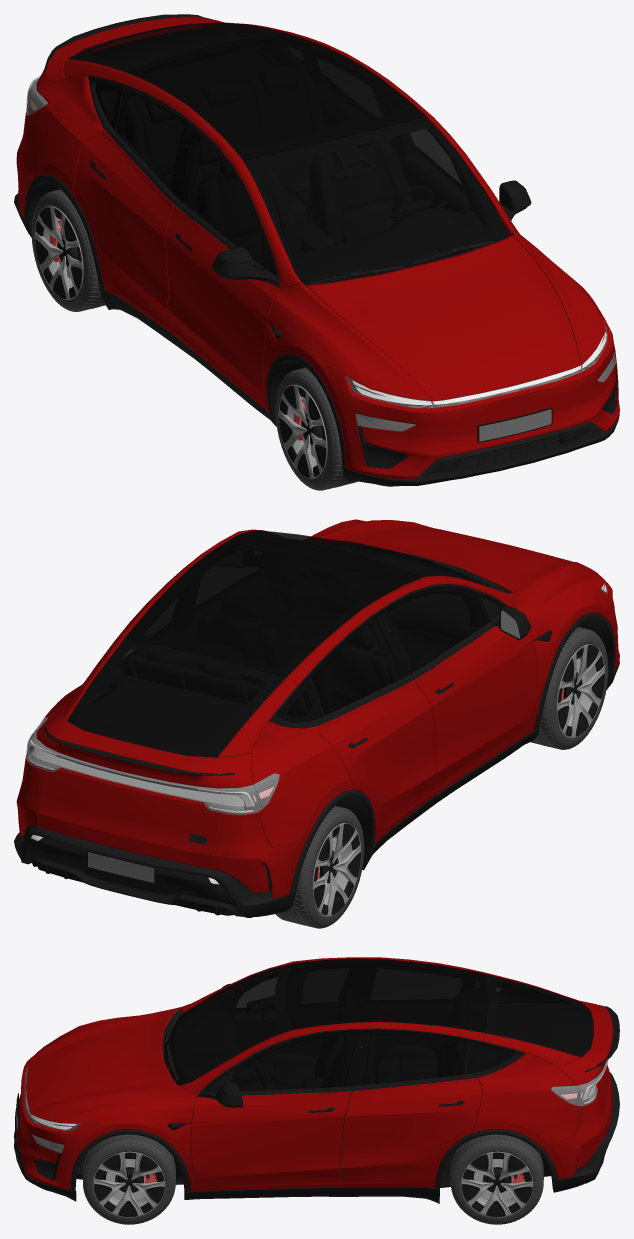
File: tesla-model-y-performance.glb
The picture shows the model from 3 angles, top to bottom: view 1: azimuth 30°, elevation 25°; view 2: azimuth 150°, elevation 25°; view 3: azimuth 270°, elevation 25°; orthographic projection. The views are drawn at different scales.
Visible parts, largest first — view 1: Object_5, Object_33, Object_9, Object_3, Object_38, Object_19, Object_17, Object_32, Object_10, Object_7, Object_39, Object_13 (+1 smaller); view 2: Object_5, Object_33, Object_9, Object_3, Object_38, Object_19, Object_17, Object_39, Object_32, Object_4, Object_13, Object_8; view 3: Object_5, Object_33, Object_9, Object_3, Object_19, Object_38, Object_17, Object_32, Object_39, Object_8, Object_14, Object_10.
Boxes of the visible parts, left/top/right/bottom form: Object_5: left=16, top=16, right=619, bottom=478; Object_33: left=14, top=23, right=619, bottom=486; Object_9: left=68, top=22, right=509, bottom=290; Object_3: left=126, top=33, right=424, bottom=160; Object_38: left=44, top=14, right=617, bottom=484; Object_19: left=31, top=189, right=357, bottom=490; Object_17: left=27, top=76, right=327, bottom=478; Object_32: left=27, top=124, right=613, bottom=441; Object_10: left=346, top=325, right=607, bottom=407; Object_7: left=352, top=332, right=606, bottom=405; Object_39: left=26, top=75, right=615, bottom=431; Object_13: left=479, top=409, right=551, bottom=441; Object_5: left=16, top=519, right=619, bottom=898; Object_33: left=14, top=531, right=619, bottom=917; Object_9: left=67, top=530, right=489, bottom=757; Object_3: left=125, top=533, right=422, bottom=677; Object_38: left=32, top=583, right=575, bottom=916; Object_19: left=275, top=627, right=608, bottom=928; Object_17: left=27, top=630, right=605, bottom=916; Object_39: left=26, top=717, right=279, bottom=814; Object_32: left=43, top=584, right=613, bottom=891; Object_4: left=31, top=741, right=244, bottom=807; Object_13: left=88, top=852, right=154, bottom=882; Object_8: left=375, top=611, right=415, bottom=678; Object_5: left=16, top=957, right=613, bottom=1191; Object_33: left=15, top=965, right=619, bottom=1217; Object_9: left=164, top=964, right=593, bottom=1091; Object_3: left=285, top=958, right=487, bottom=1032; Object_19: left=82, top=1134, right=543, bottom=1224; Object_38: left=14, top=959, right=619, bottom=1183; Object_17: left=93, top=1046, right=603, bottom=1217; Object_32: left=25, top=1032, right=581, bottom=1193; Object_39: left=32, top=1059, right=608, bottom=1152; Object_8: left=343, top=1032, right=371, bottom=1086; Object_14: left=106, top=1159, right=512, bottom=1200; Object_10: left=24, top=1066, right=81, bottom=1130.
Size of the model in its own units: 2.12 by 1.65 by 4.78.
22 materials, 1 textured.
